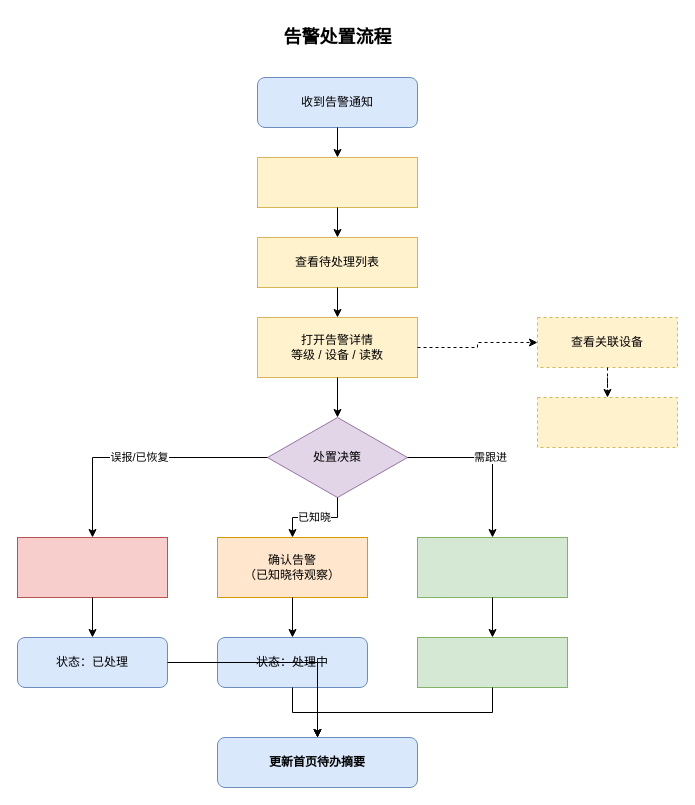
The diagram is 695 pixels wide and 805 high, and some of its shapes have lost their labels. Each missing label, with the box of its shape:
关闭告警 （误报 / 已恢复）: (16, 536, 168, 598)
打开告警 Tab: (256, 156, 418, 208)
设备详情页: (536, 396, 678, 448)
跳转工单详情: (416, 636, 568, 688)
转工单 （需现场跟进）: (416, 536, 568, 598)
